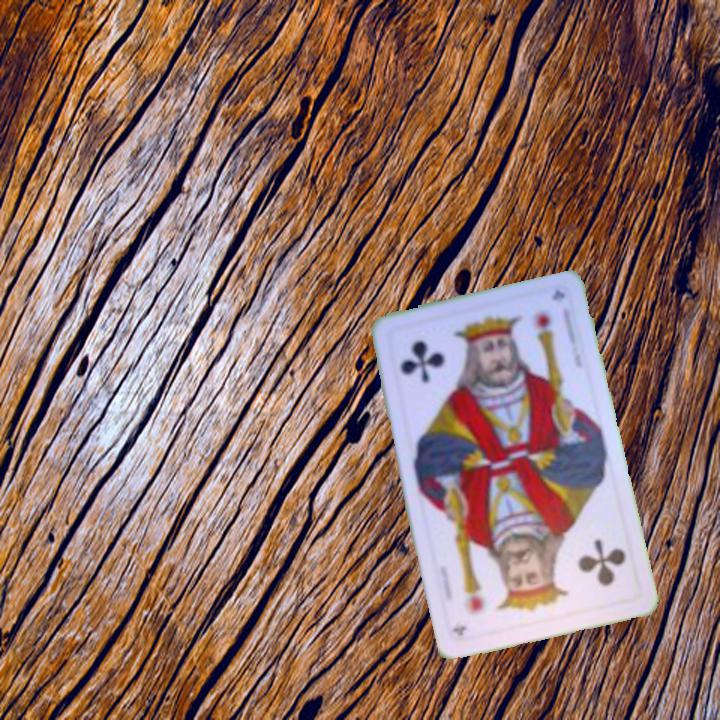c_k.png: (381, 308, 496, 413), (526, 517, 641, 622)
